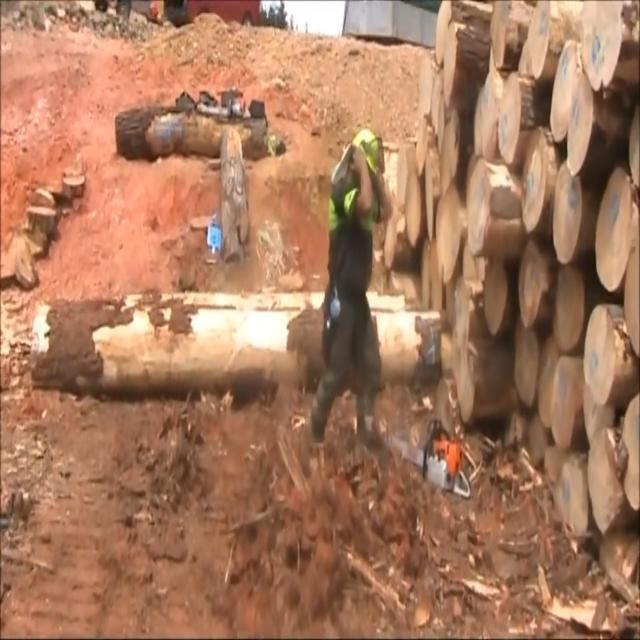Chainsaw: (355, 382, 495, 516)
